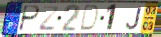1: (105, 4, 118, 34)
2: (60, 4, 82, 34)
D: (78, 4, 101, 33)
J: (125, 5, 143, 31)
P: (17, 5, 41, 33)
Z: (37, 5, 60, 32)
